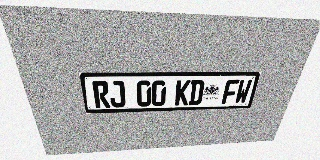0: (136, 80, 151, 107), (151, 80, 166, 106)
D: (188, 80, 205, 105)
F: (221, 79, 240, 104)
J: (108, 81, 126, 108)
K: (175, 80, 191, 106)
R: (92, 81, 111, 108)
W: (234, 79, 253, 104)
